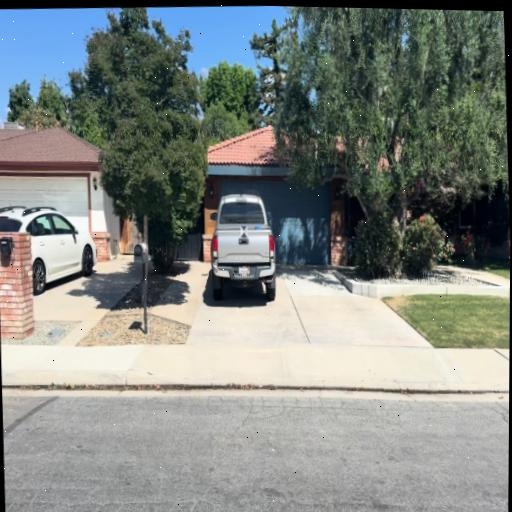target1: (240, 225, 247, 237)
